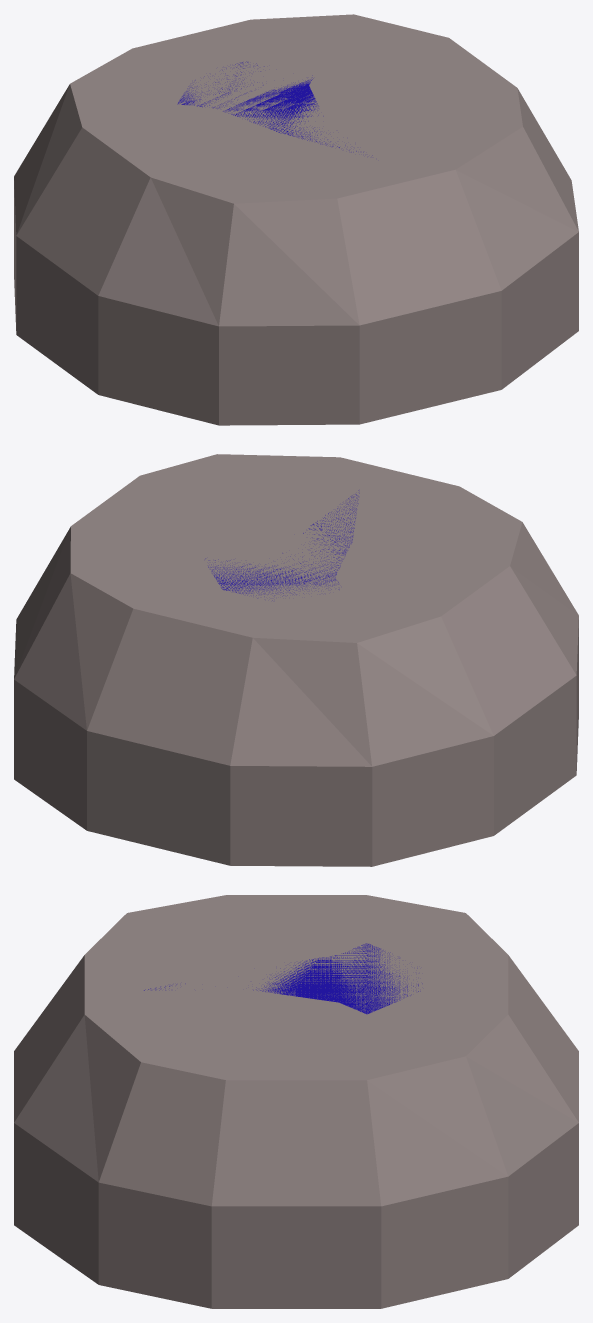
The model's file is inv_water_rune.obj.
3 renders of one model, top to bottom at view 1: azimuth 30°, elevation 25°; view 2: azimuth 150°, elevation 25°; view 3: azimuth 270°, elevation 25°, orthographic. The views are drawn at different scales.
Bounding box in the file's own units: 0.3125 × 0.125 × 0.3125.
